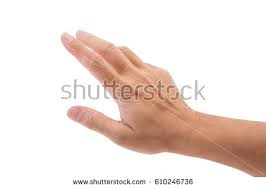hand: (42, 15, 201, 168)
